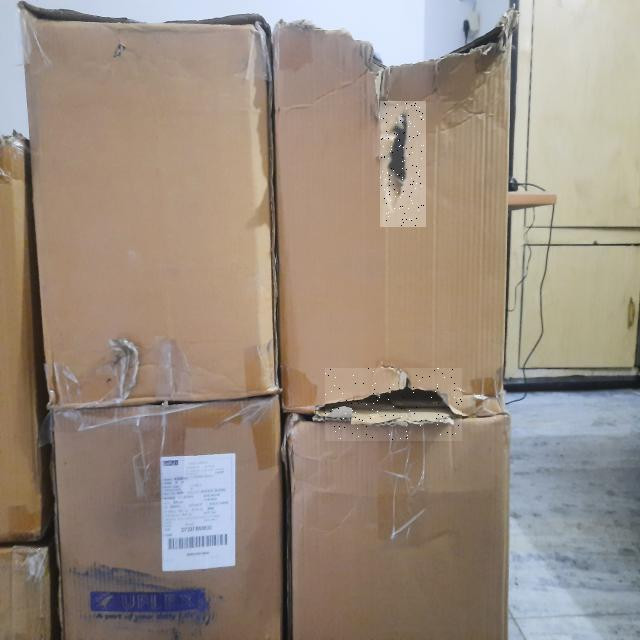leakage: (326, 368, 462, 440), (381, 102, 424, 226)
